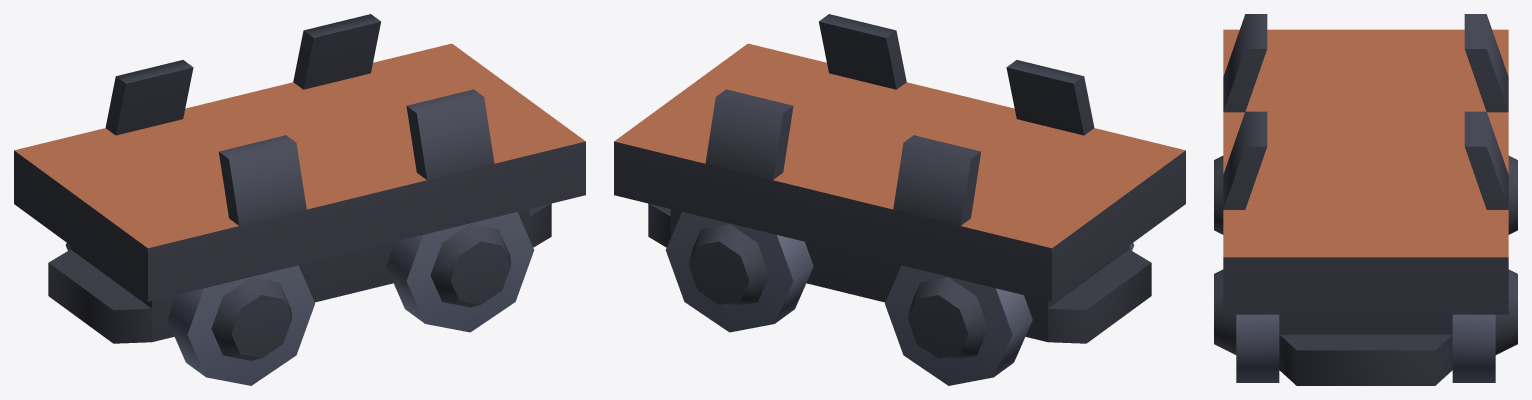
File: train-wagon-flat-short.glb
3 views of the same model, side by side, from view 1: azimuth 30°, elevation 25°; view 2: azimuth 150°, elevation 25°; view 3: azimuth 270°, elevation 25° (orthographic). The views are drawn at different scales.
Visible parts, largest first — view 1: train-wagon-flat-short; view 2: train-wagon-flat-short; view 3: train-wagon-flat-short.
Part boxes in pixels (x1,y1,x2,y2): train-wagon-flat-short: (14, 14, 585, 385); train-wagon-flat-short: (614, 14, 1185, 385); train-wagon-flat-short: (1214, 14, 1517, 385).
Bounding box in the file's own units: 0.3457 × 0.172 × 0.1949.
